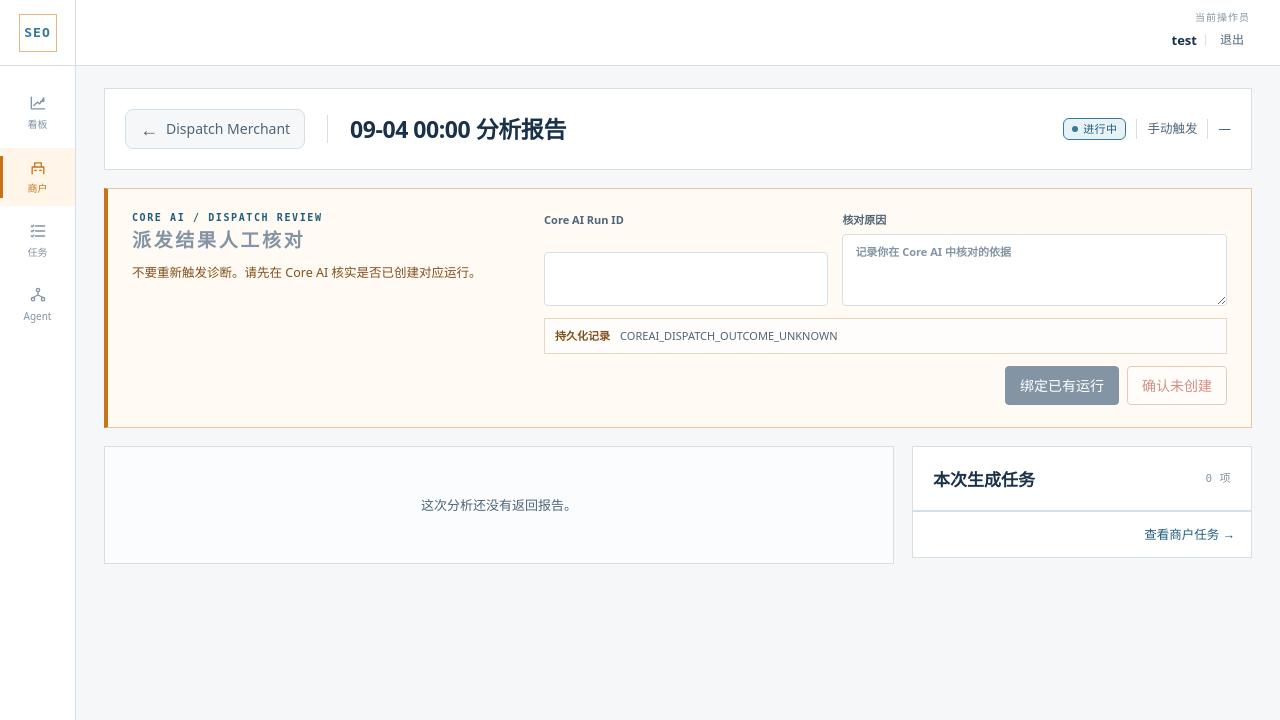
Test: run dispatch reconciliation › requires a reason and second confirmation before marking the provider run not created
This screenshot has width=1280, height=720.
Expected: the button "确认未创建" is disabled, 1127,366 -> 1227,405
Type "已确认 Core AI 中不存在对应运行" into the text box labelled "核对原因" at (1035,270), box 842,234 -> 1227,306
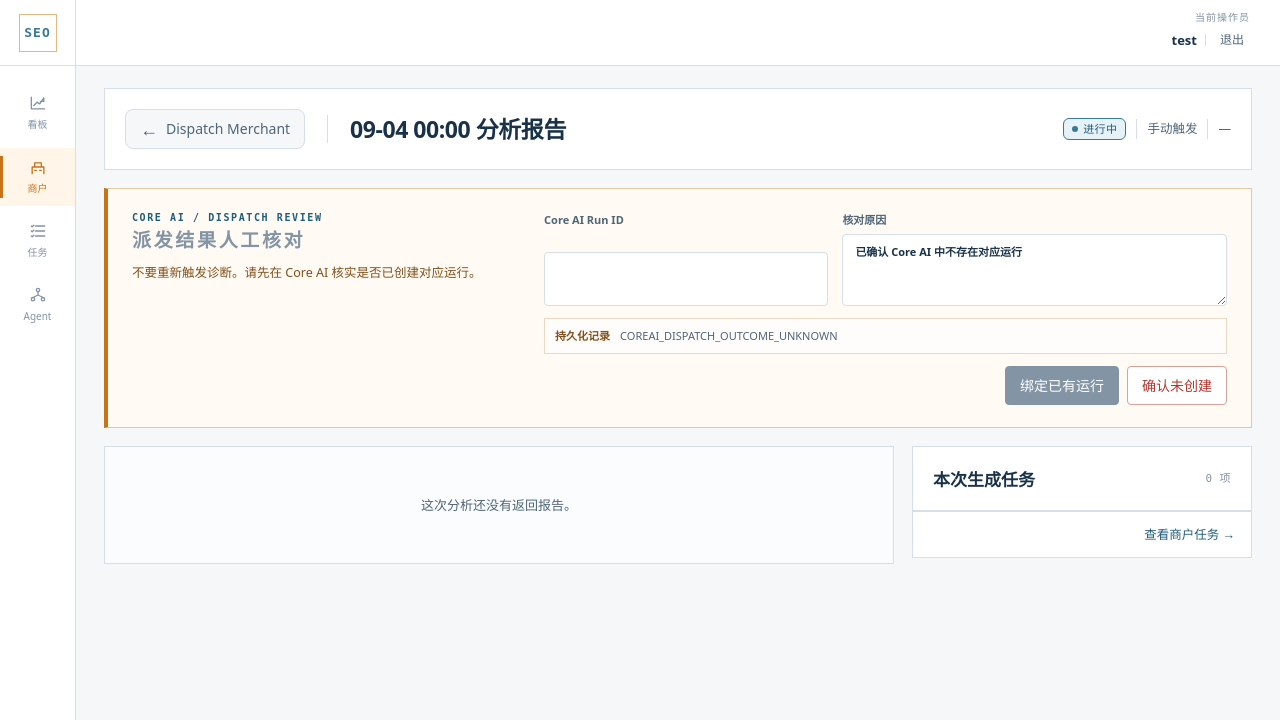
Now the button "确认未创建" is enabled
Click the button "确认未创建" at (1177,386), box 1127,366 -> 1227,405
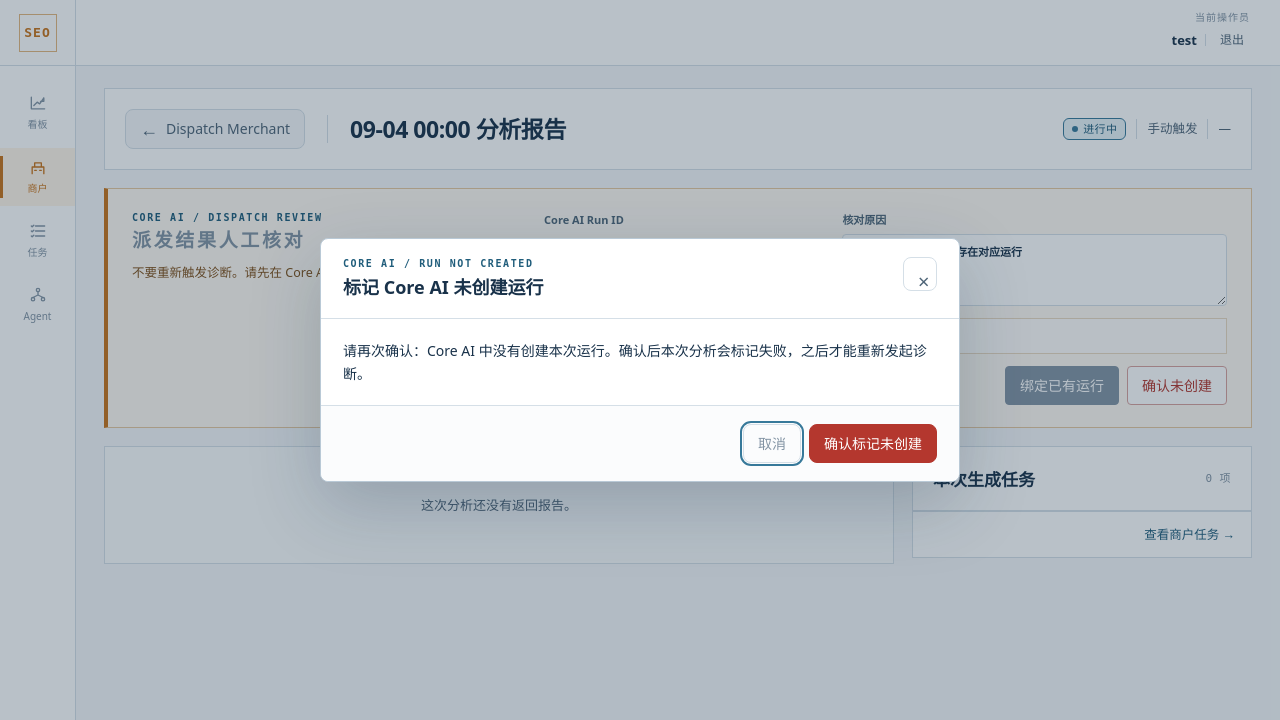
Now the text "请再次确认：Core AI 中没有创建本次运行。确认后本次分析会标记失败，之后才能重新发起诊断。" is shown, box 343,338 -> 937,385
Click the button "确认标记未创建" at (873,443), box 809,424 -> 937,463
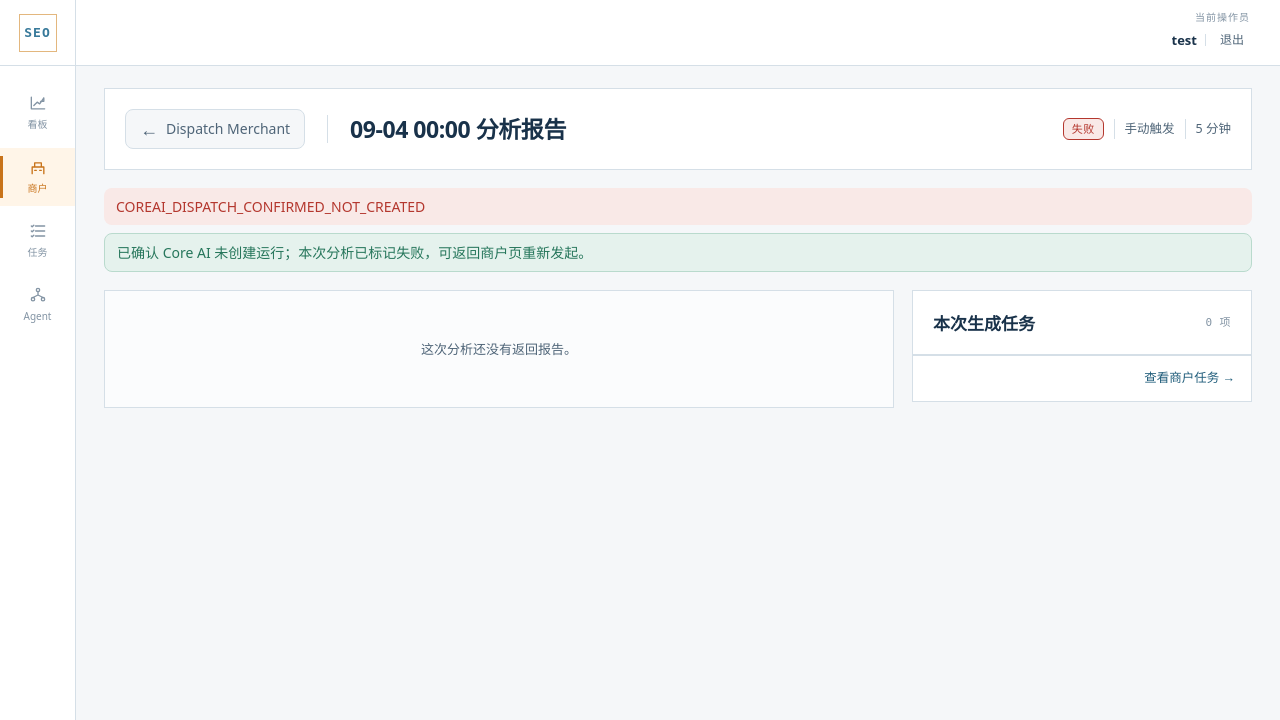
Now the text "已确认 Core AI 未创建运行；本次分析已标记失败，可返回商户页重新发起。" is shown, box 117,243 -> 592,262
